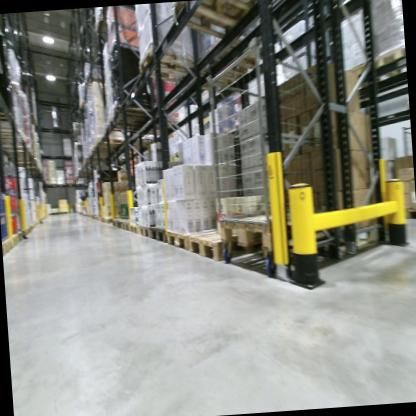pallet: (111, 53, 240, 133), (217, 207, 350, 256), (170, 0, 268, 47), (135, 41, 202, 90), (206, 32, 279, 75), (188, 225, 266, 262), (165, 225, 193, 254), (0, 125, 26, 146), (150, 226, 169, 245), (0, 106, 18, 124), (139, 221, 152, 239), (129, 220, 139, 234), (121, 218, 131, 231), (113, 218, 123, 228)
